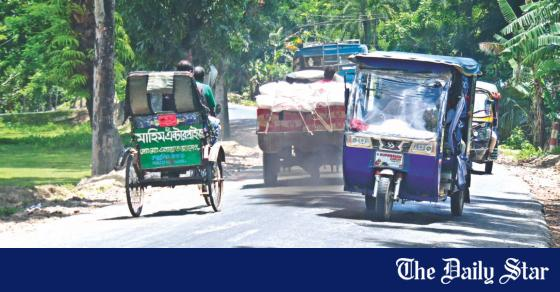bus: (294, 39, 368, 79)
cng: (473, 81, 501, 175)
easybike: (343, 52, 481, 221)
rickshaw: (115, 72, 225, 217)
truck: (255, 130, 342, 187)
